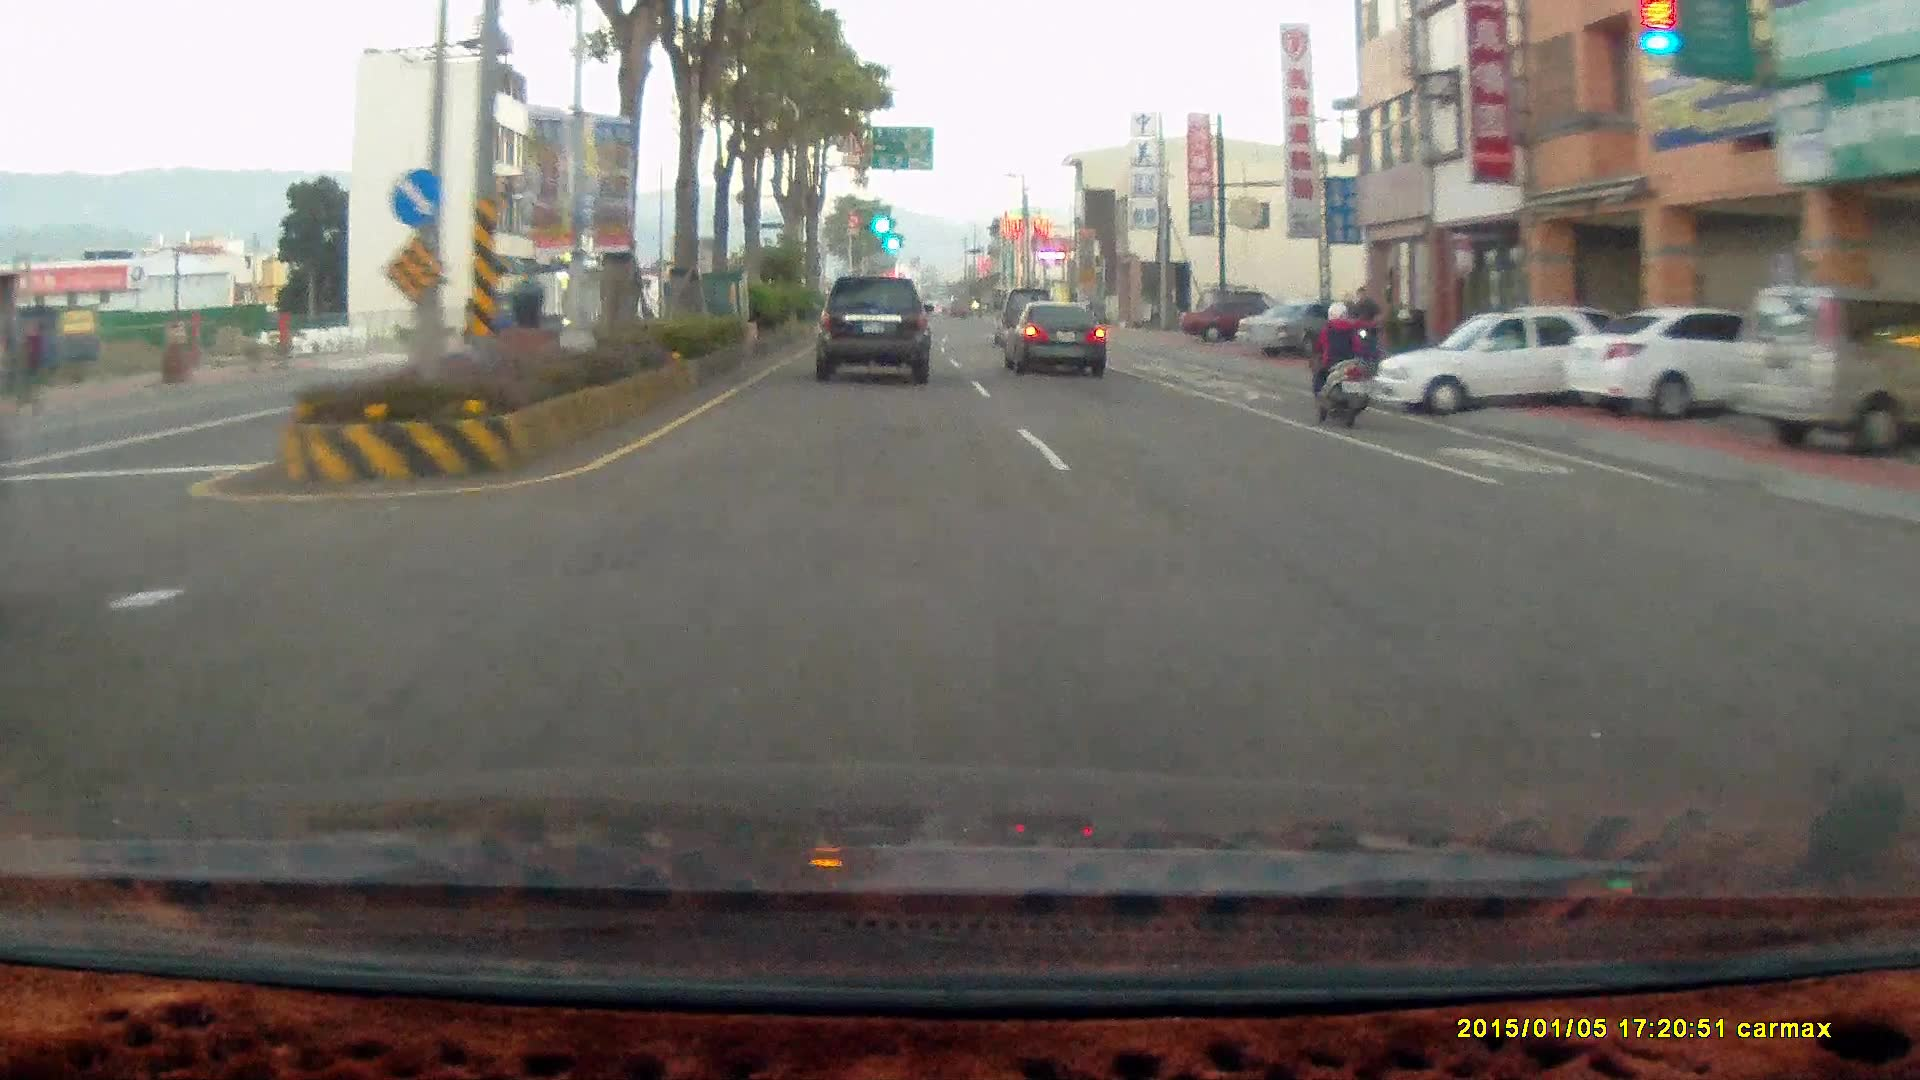pedestrian: (1344, 285, 1383, 381), (17, 318, 48, 416)
rider: (1293, 288, 1383, 431), (1303, 302, 1369, 431)
vehicle: (1731, 286, 1920, 461), (1562, 305, 1821, 422), (1371, 305, 1652, 410), (1373, 307, 1615, 413), (1557, 310, 1771, 426), (809, 273, 939, 387), (813, 273, 933, 385), (1237, 297, 1381, 359), (1236, 297, 1380, 358), (1002, 298, 1106, 376), (1007, 304, 1110, 381), (1181, 299, 1296, 342), (992, 288, 1055, 346)
